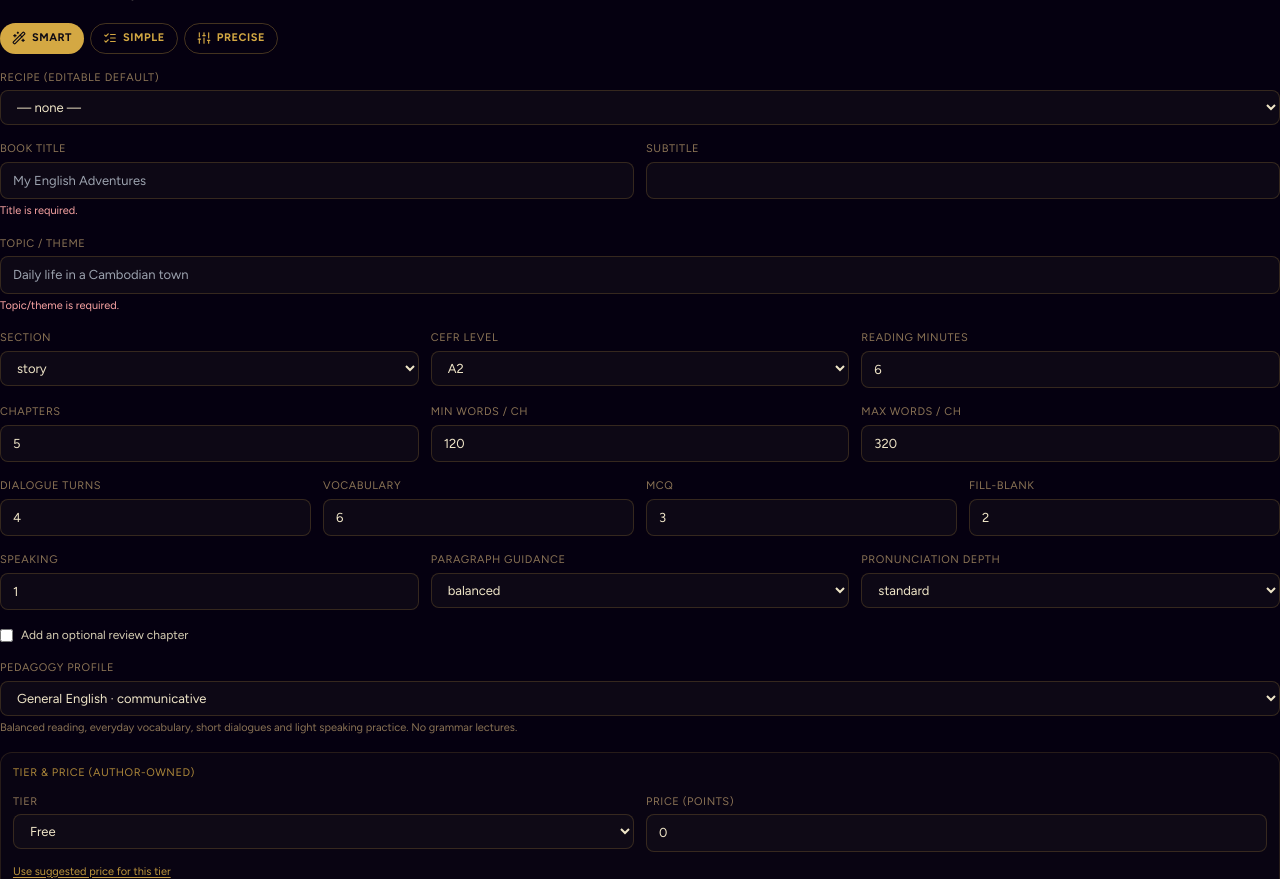
Test case: blueprint generation stops for review; no chapter step before approval
Type "T" into the field with test id "bf-title".
click(317, 180); type("T")  # box [0,162,634,199]
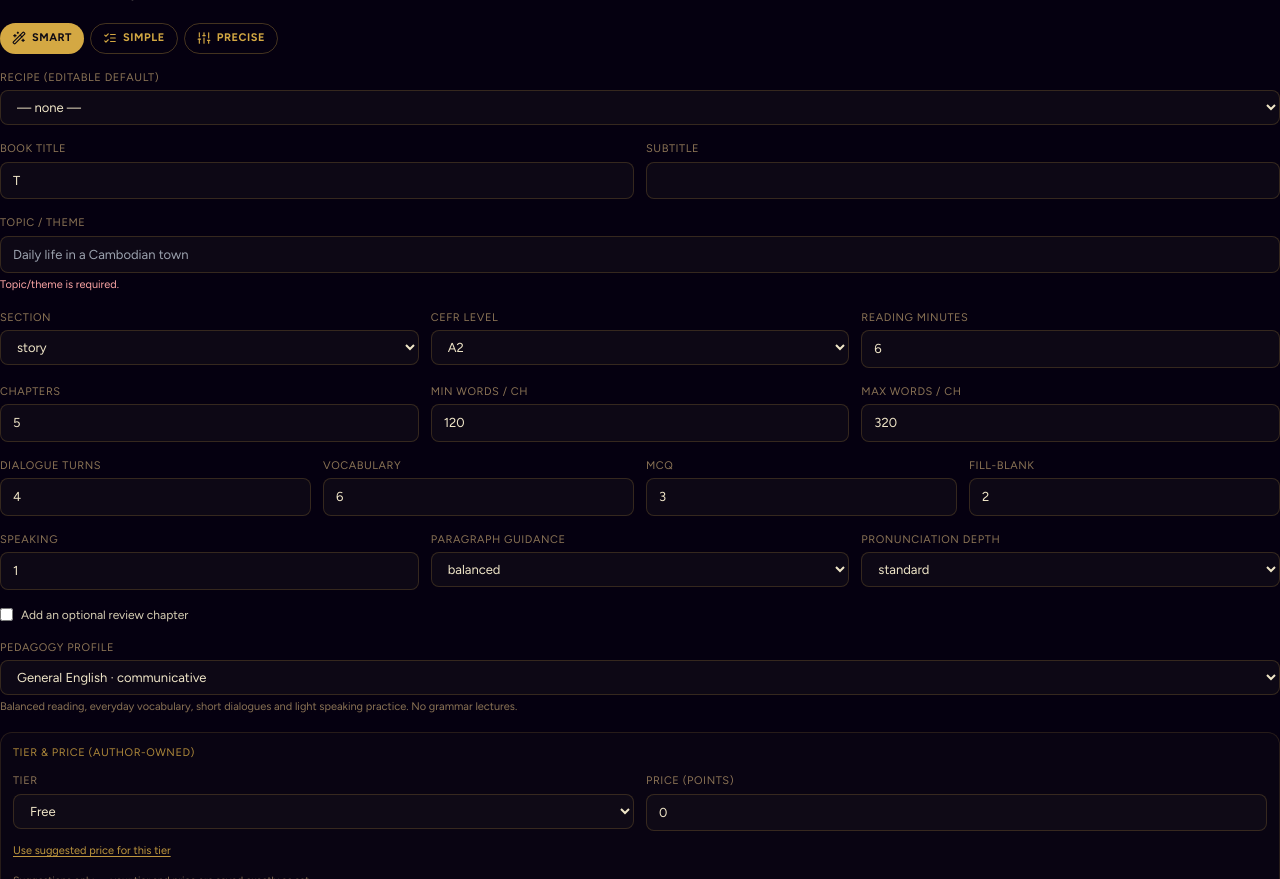
Type "Topic" into the field with test id "bf-topic".
click(640, 254); type("Topic")  # box [0,236,1279,273]
(page scrolled)
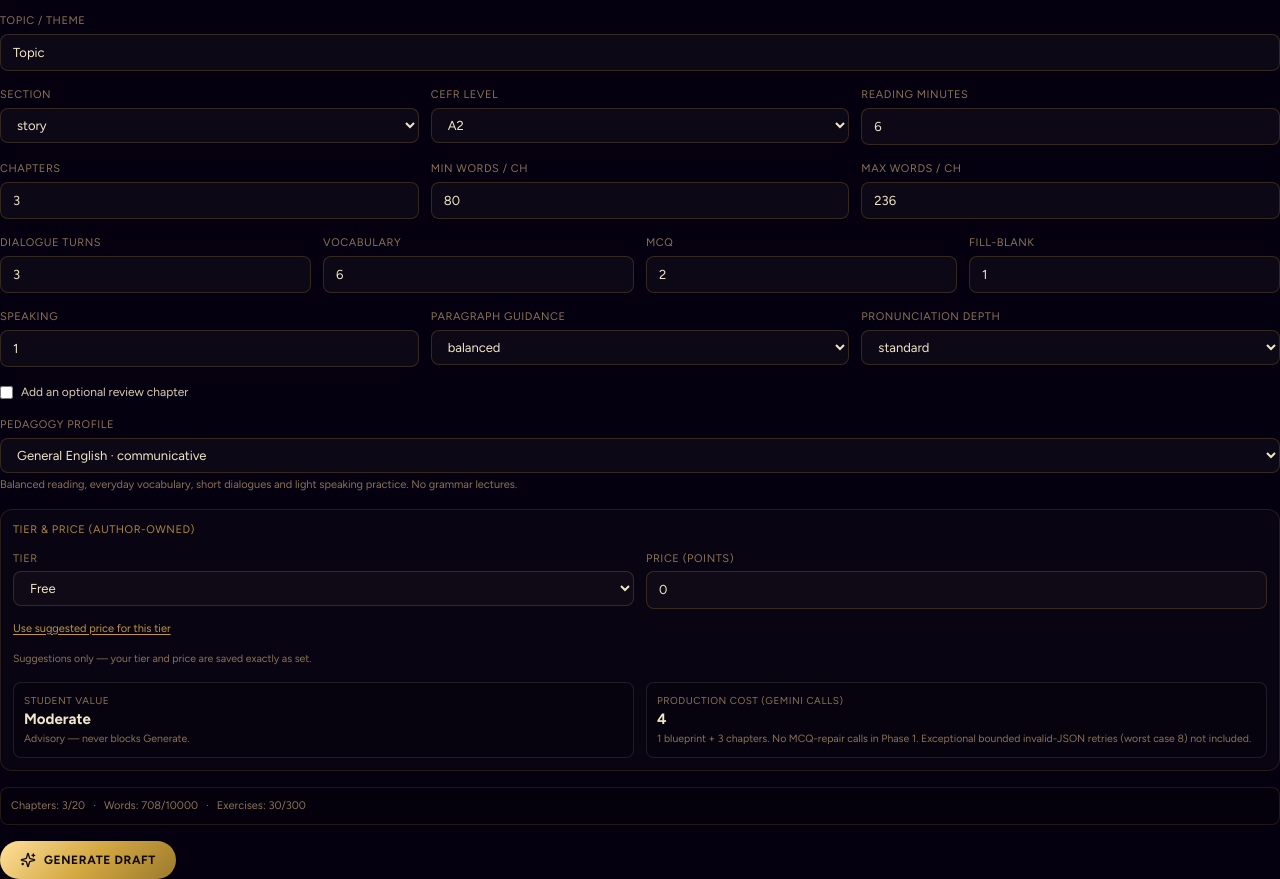
Click the button with test id "bf-generate-btn".
click(88, 860)  # box [0,841,176,878]
(page scrolled)
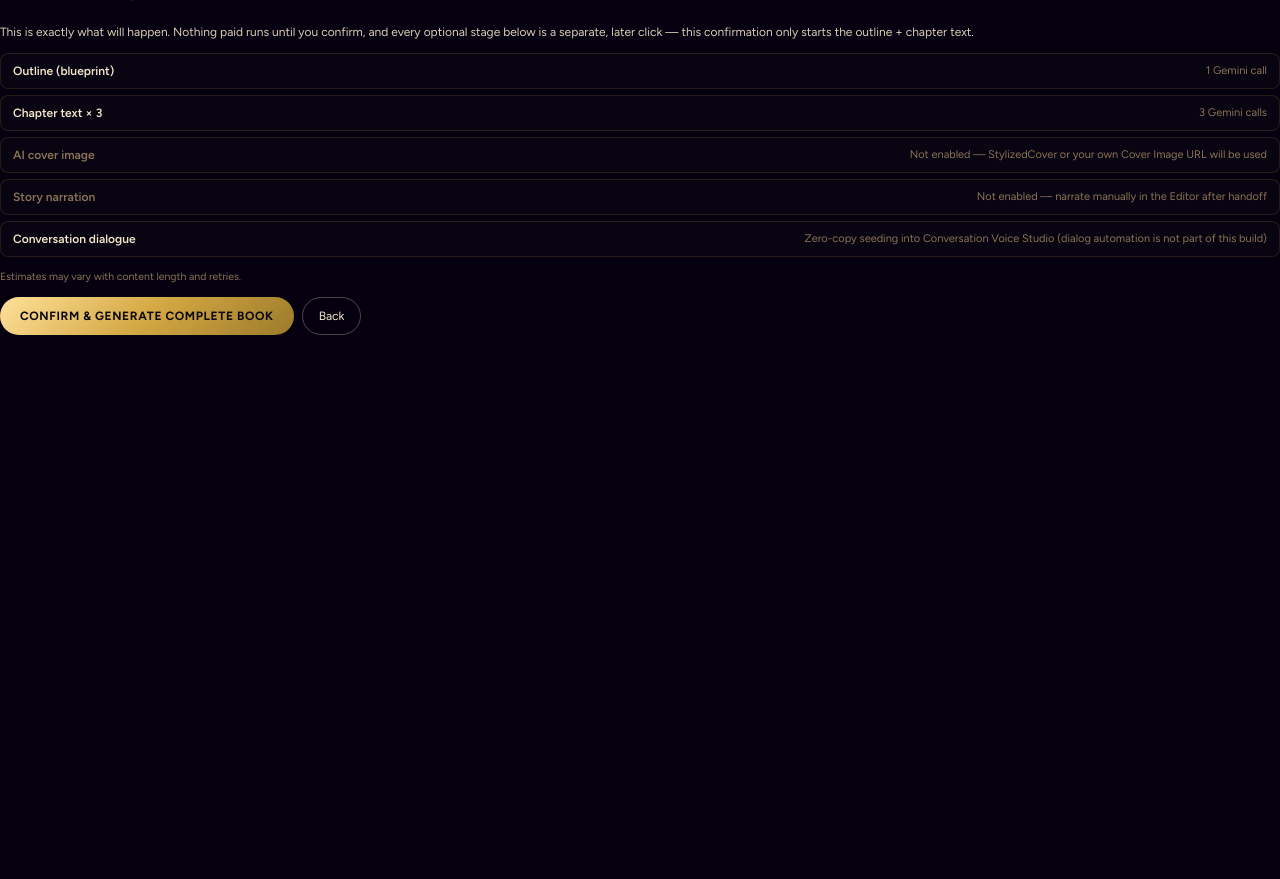
Expected: the button with test id "bf-plan-confirm" is shown
Click the button with test id "bf-plan-confirm".
click(147, 316)  # box [0,297,294,335]
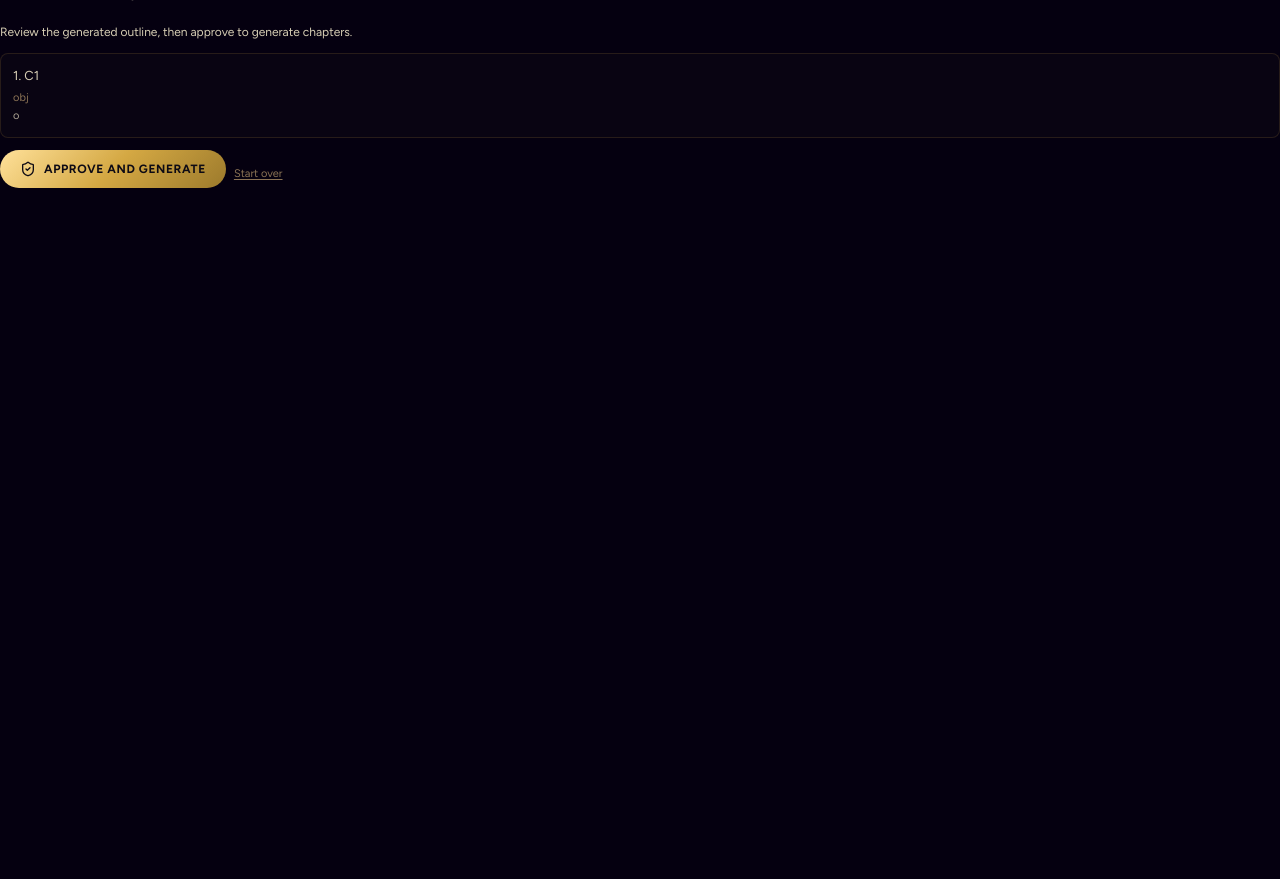
Expected: the element with test id "bf-blueprint-review" is shown, [0,23,1279,188]
Expected: the button with test id "bf-approve-generate" is shown, [0,150,226,188]
